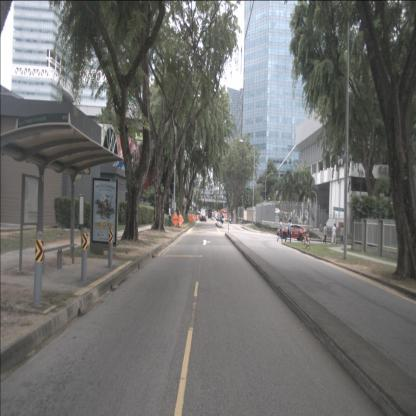human-pedestrian-adult: (277, 218, 283, 243), (285, 219, 291, 243), (339, 225, 344, 245), (176, 206, 180, 228), (332, 223, 336, 244), (323, 223, 327, 244), (168, 206, 172, 227), (153, 208, 156, 225)
vehicle-bicycle: (302, 230, 310, 250)
vehicle-car: (276, 224, 308, 241), (201, 212, 206, 222), (199, 213, 205, 221)
vehicle-motorcycle: (221, 214, 224, 225)
vehicle-truck: (201, 209, 206, 220), (208, 207, 212, 218)
